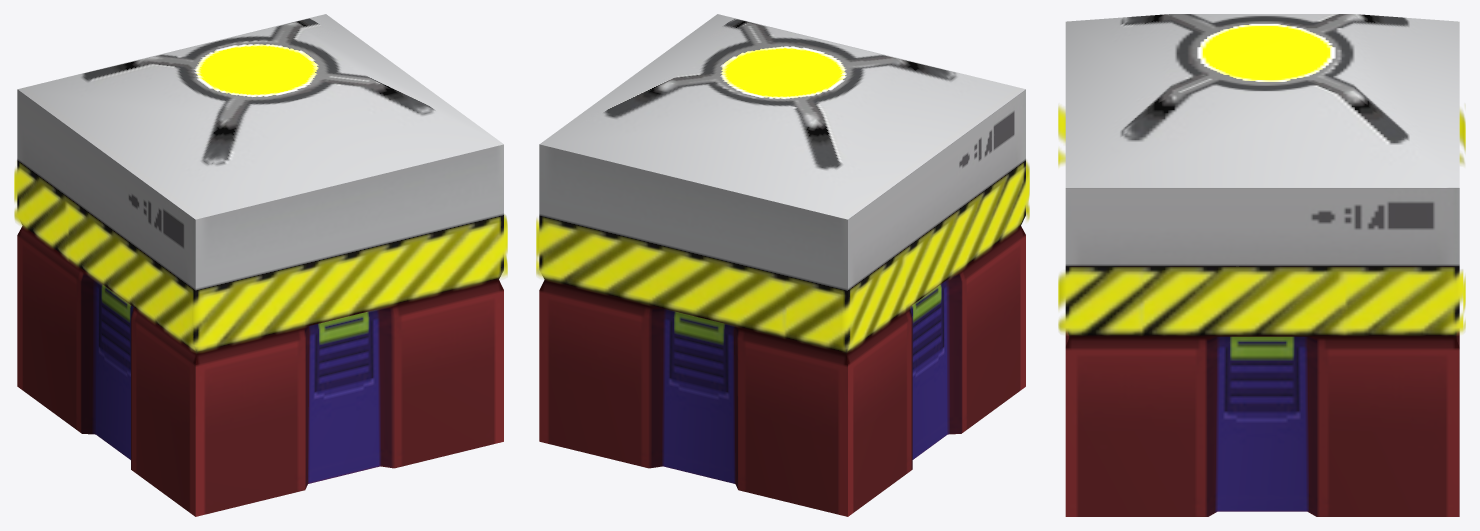
The model's file is LootBox5.glb.
3 views of the same model, side by side, from view 1: azimuth 30°, elevation 25°; view 2: azimuth 150°, elevation 25°; view 3: azimuth 270°, elevation 25° (orthographic). The views are drawn at different scales.
Visible parts, largest first — view 1: Loot Box; view 2: Loot Box; view 3: Loot Box.
Boxes of the visible parts, box(x1,y1,x2,y2) form: Loot Box: box(14, 14, 507, 516); Loot Box: box(536, 14, 1029, 516); Loot Box: box(1058, 14, 1465, 516).
Bounding box in the file's own units: 1.02 × 1.06 × 1.03.
Materials: 2 (2 with a texture image).
